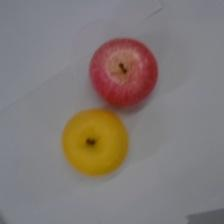red: (88, 36, 159, 108)
yellow: (61, 108, 129, 177)
